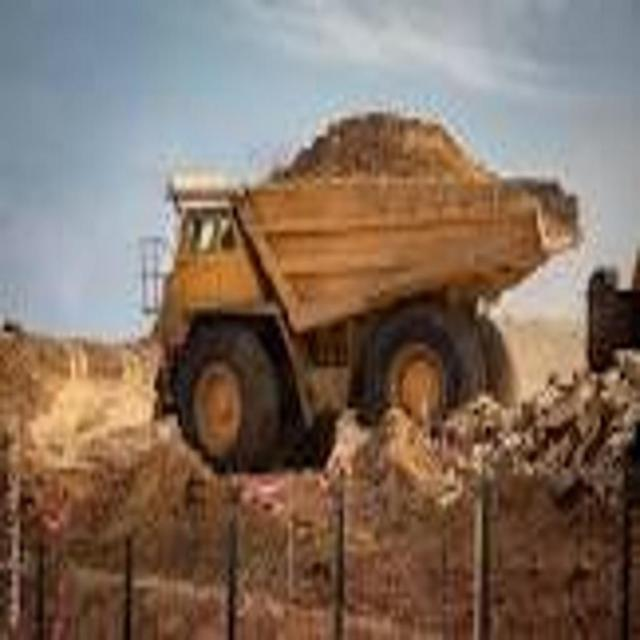dump_truck: (136, 100, 582, 482)
